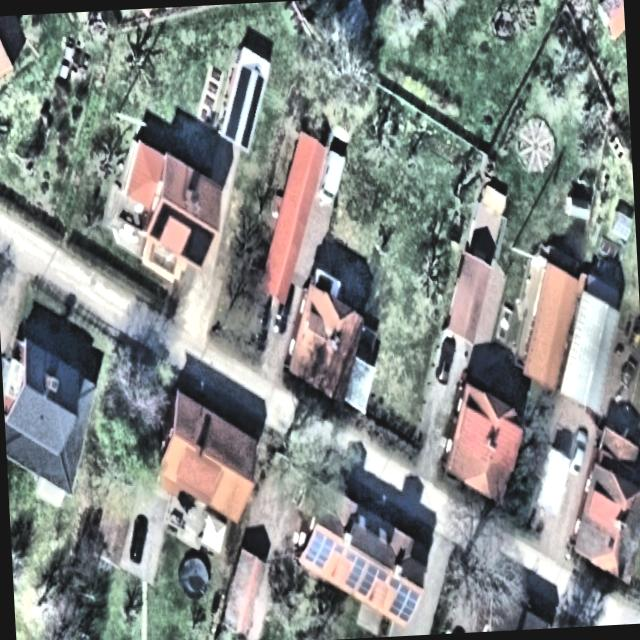roof_pv: (180, 222, 218, 272), (389, 575, 421, 627), (302, 526, 334, 574), (345, 550, 373, 598), (236, 60, 257, 118), (145, 198, 171, 242), (224, 90, 240, 146), (240, 118, 258, 150), (170, 203, 196, 225), (372, 558, 391, 586), (255, 74, 270, 108), (332, 536, 344, 556)
